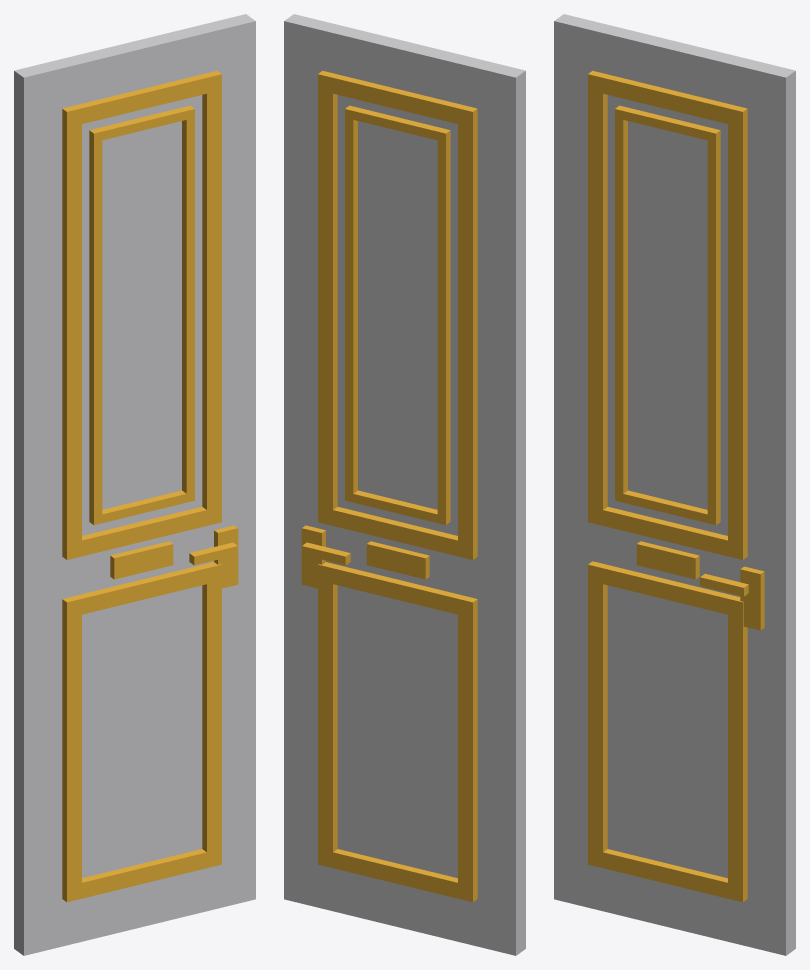
The model's file is SM_Door_obelisk_inner_70x250.fbx.
The picture shows the model from 3 angles, left to right: view 1: azimuth 30°, elevation 25°; view 2: azimuth 150°, elevation 25°; view 3: azimuth 330°, elevation 25°; orthographic projection.
Parts seen in each view (by area): view 1: SM_Door_obelisk_inner_70x250; view 2: SM_Door_obelisk_inner_70x250; view 3: SM_Door_obelisk_inner_70x250.
Part boxes in pixels (bbox=[...]): SM_Door_obelisk_inner_70x250: bbox=[14, 14, 255, 955]; SM_Door_obelisk_inner_70x250: bbox=[284, 14, 525, 955]; SM_Door_obelisk_inner_70x250: bbox=[554, 14, 795, 955].
Bounding box in the file's own units: 0.688 × 2.49 × 0.175.
